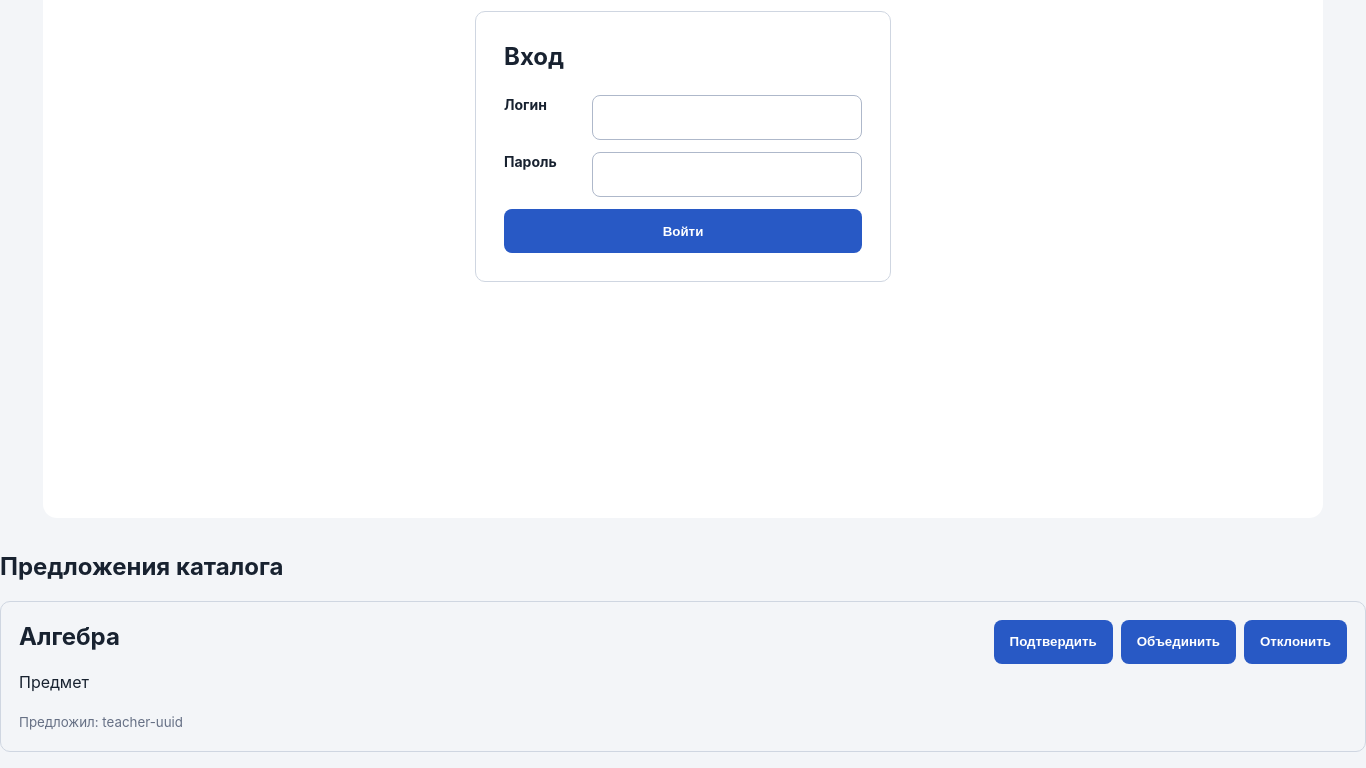
Test: AdminCatalogProposalsPage › requires a merge reason and sends the exact merge command
(page scrolled)
Click the button "Объединить" at (1178, 642), box [1121,620,1236,664]
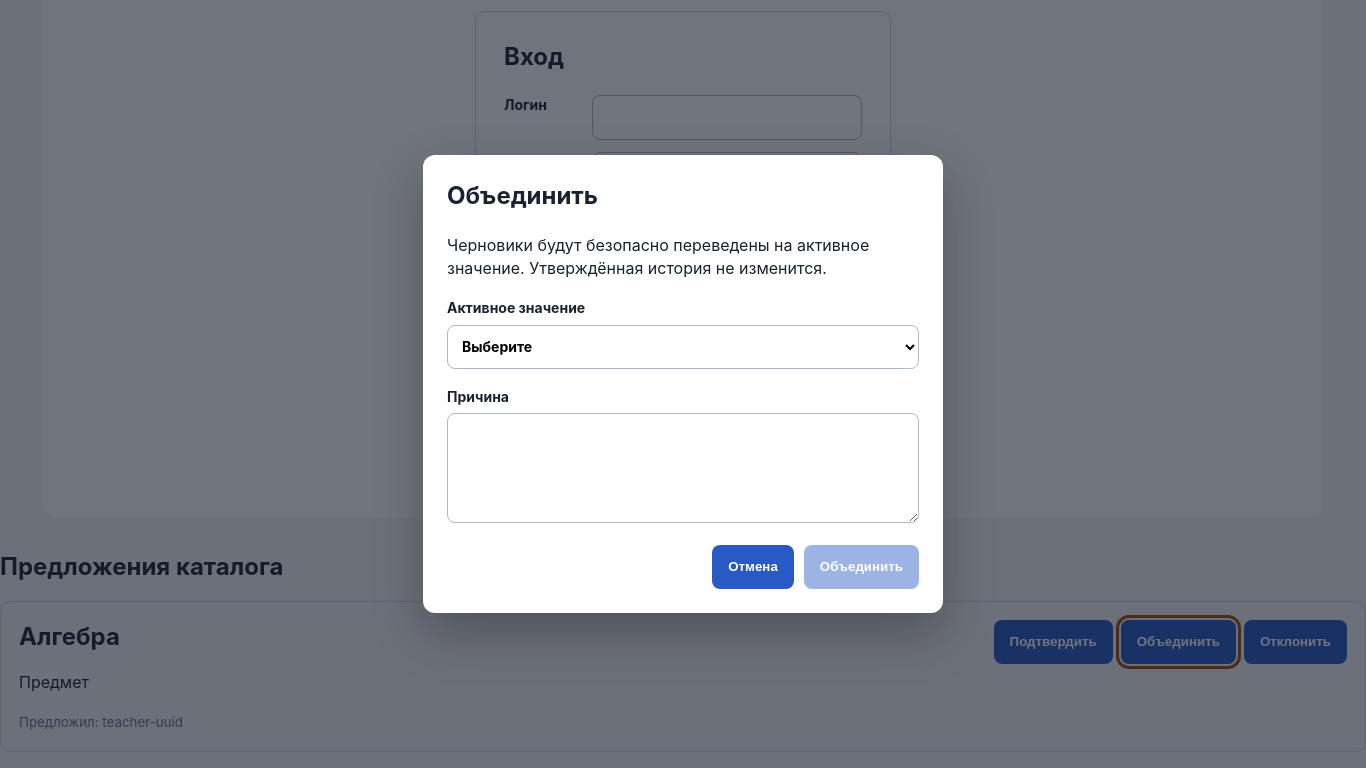
Select "Математика" in the dropdown labelled "Активное значение" at (683, 346), box [447,324,919,368]
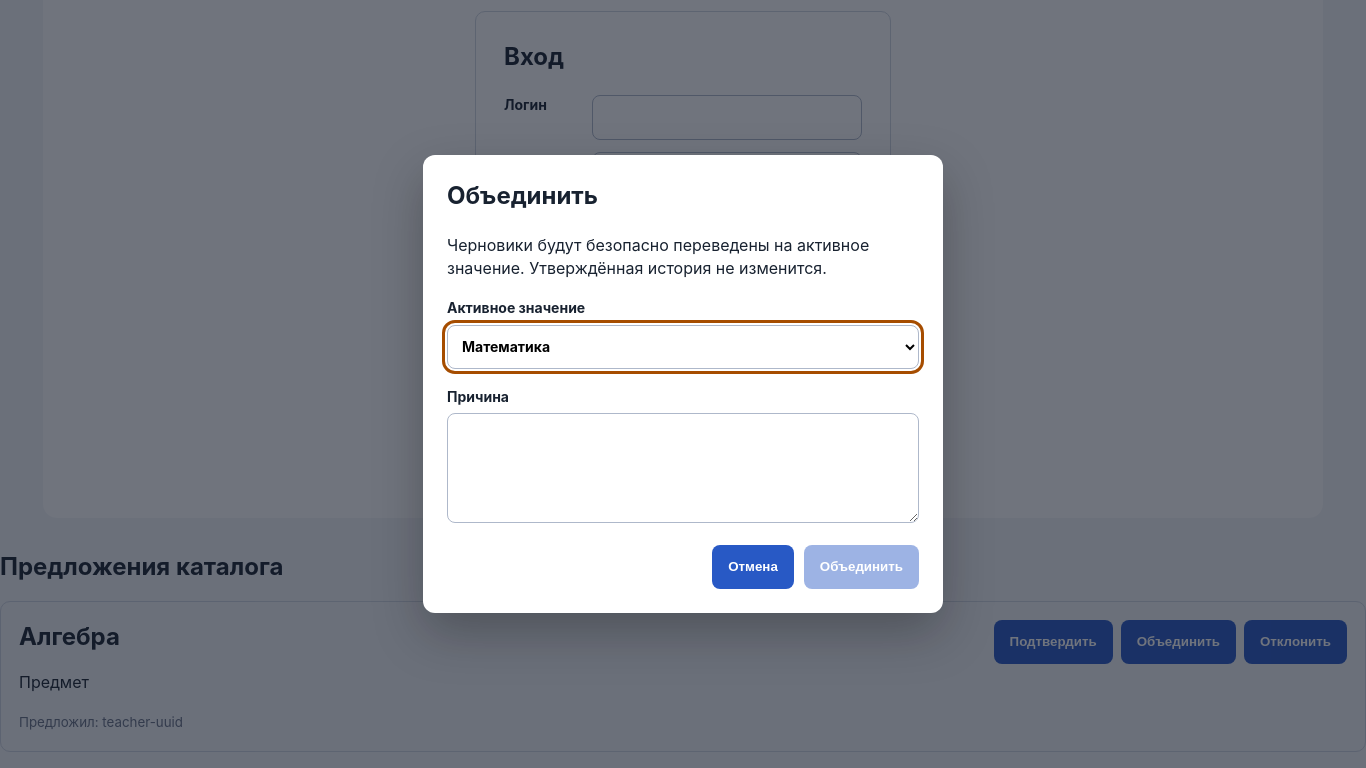
Check: the button "Объединить" is disabled, box [804,545,919,589]
Type "Дубликат" into the text box labelled "Причина" at (683, 468), box [447,413,919,523]
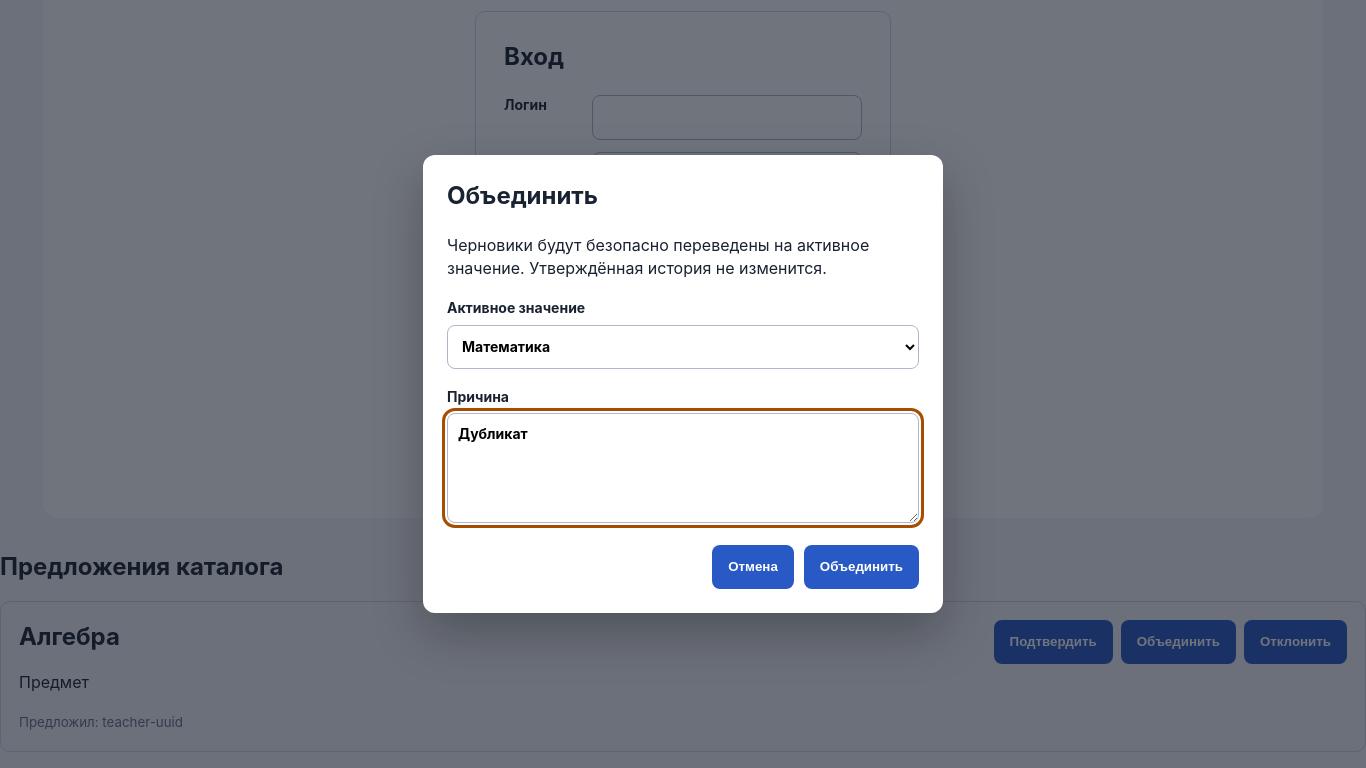
Click the button "Объединить" at (861, 567), box [804,545,919,589]
(page scrolled)
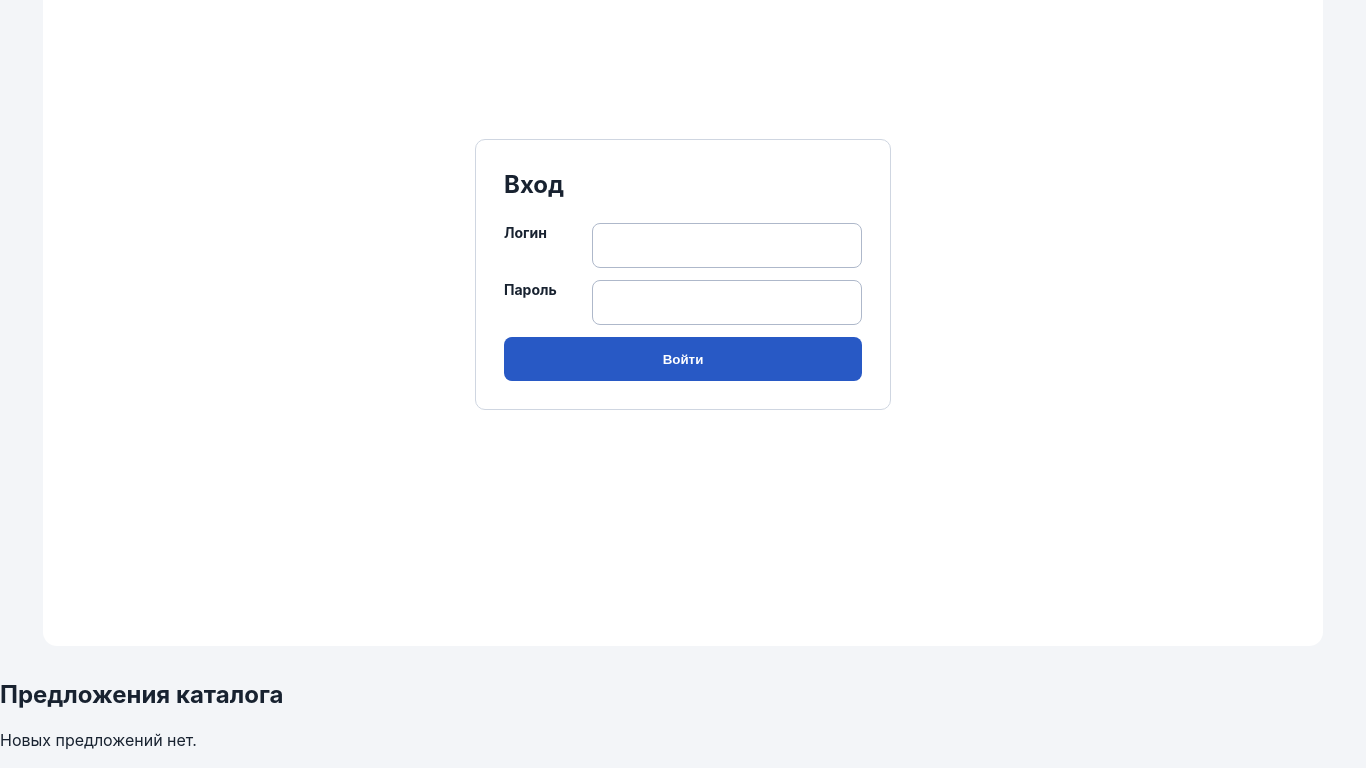
Check: the text "Новых предложений нет." is shown, box [0,730,197,750]
